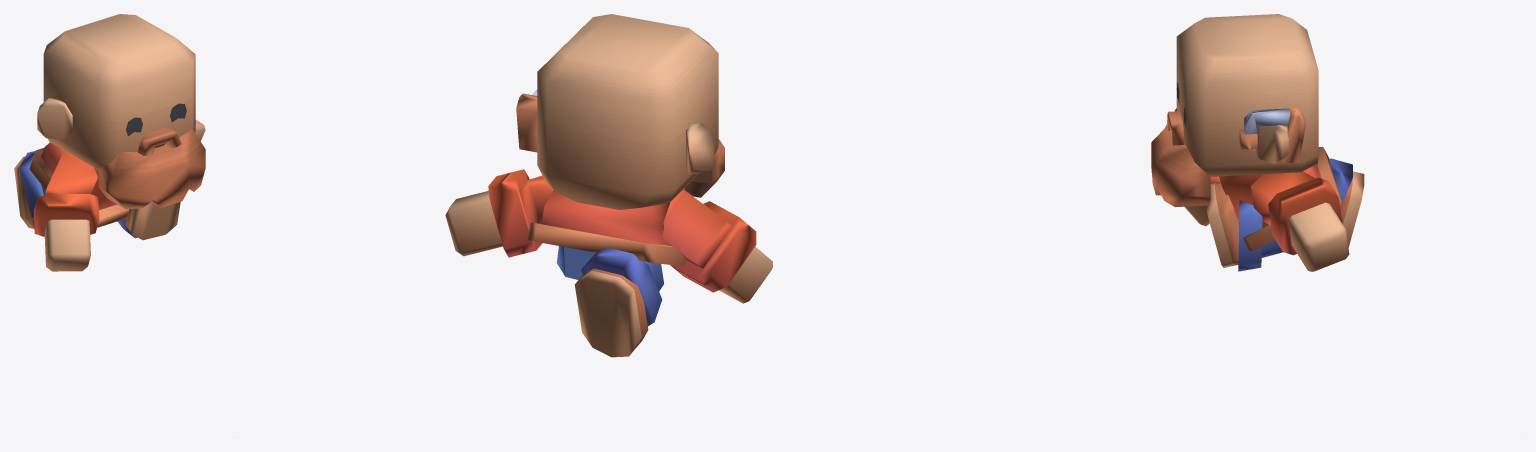
Rendered from rival_sprint_2.glb.
3 views of the same model, side by side, from view 1: azimuth 30°, elevation 25°; view 2: azimuth 150°, elevation 25°; view 3: azimuth 270°, elevation 25° (orthographic). The views are drawn at different scales.
Parts seen in each view (by area): view 1: rival-sprint-2; view 2: rival-sprint-2; view 3: rival-sprint-2.
Part boxes in pixels (bbox=[...]): rival-sprint-2: bbox=[14, 14, 205, 271]; rival-sprint-2: bbox=[445, 14, 772, 357]; rival-sprint-2: bbox=[1151, 14, 1364, 271].
Bounding box in the file's own units: 1.2 × 0.8028 × 1.2.
Materials: 1 (1 with a texture image).
